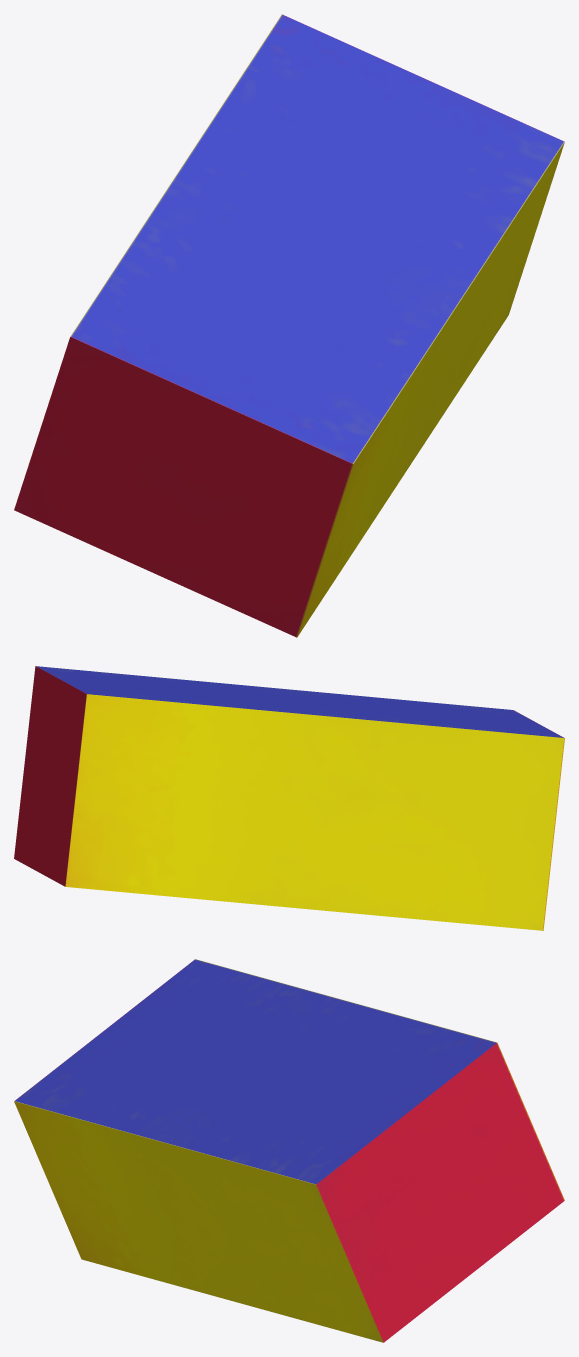
The model's file is coba balok.fbx.
3 renders of one model, top to bottom at view 1: azimuth 30°, elevation 25°; view 2: azimuth 150°, elevation 25°; view 3: azimuth 270°, elevation 25°, orthographic. The views are drawn at different scales.
Visible parts, largest first — view 1: node_a1858b6c_756b_4214_8956_d357dba58911_mesh0; view 2: node_a1858b6c_756b_4214_8956_d357dba58911_mesh0; view 3: node_a1858b6c_756b_4214_8956_d357dba58911_mesh0.
Boxes of the visible parts, bbox=[...] form: node_a1858b6c_756b_4214_8956_d357dba58911_mesh0: bbox=[14, 14, 564, 637]; node_a1858b6c_756b_4214_8956_d357dba58911_mesh0: bbox=[14, 666, 564, 930]; node_a1858b6c_756b_4214_8956_d357dba58911_mesh0: bbox=[14, 959, 564, 1342].
Bounding box in the file's own units: 39.73 × 24.74 × 39.56.
1 material, 1 textured.
